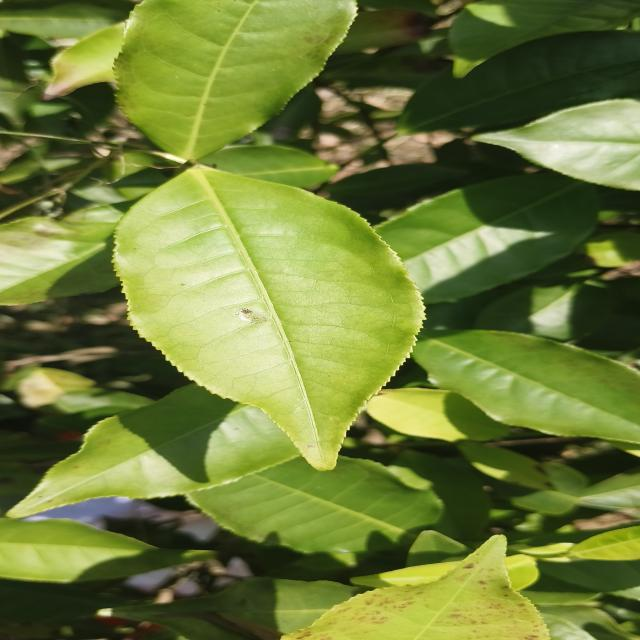Leaf: (114, 168, 422, 470), (8, 383, 300, 518), (115, 0, 357, 160), (377, 174, 597, 304), (281, 535, 549, 640), (413, 330, 640, 444), (398, 31, 640, 133), (186, 457, 441, 553), (97, 577, 357, 640), (474, 99, 640, 189), (450, 0, 640, 77), (0, 518, 212, 583), (0, 205, 128, 305), (388, 451, 489, 541), (326, 163, 467, 224), (474, 282, 610, 341), (366, 388, 507, 442), (45, 22, 124, 99), (200, 145, 339, 188), (0, 579, 122, 623), (0, 0, 134, 39), (458, 442, 551, 489), (568, 526, 640, 560), (581, 473, 640, 508)
